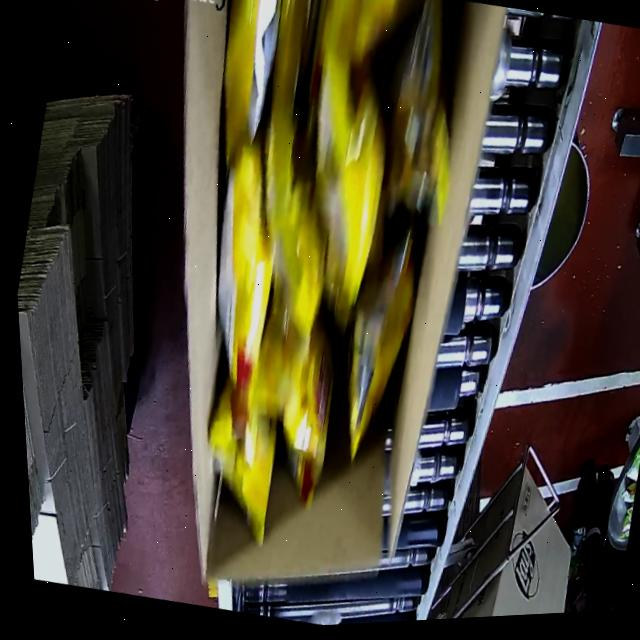SALTED: (114, 0, 505, 524)
